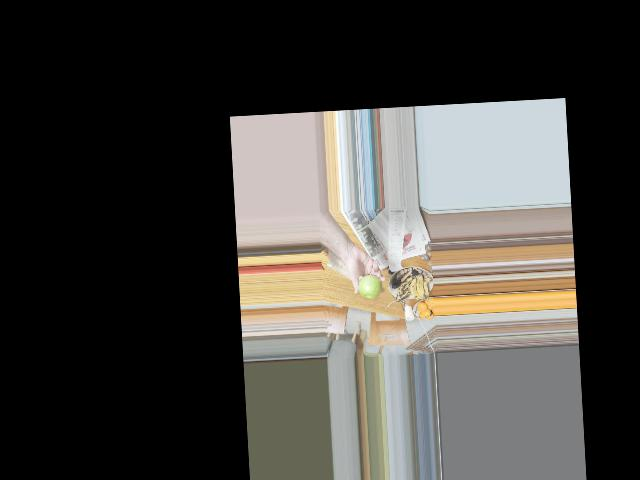apple: (357, 272, 383, 300)
